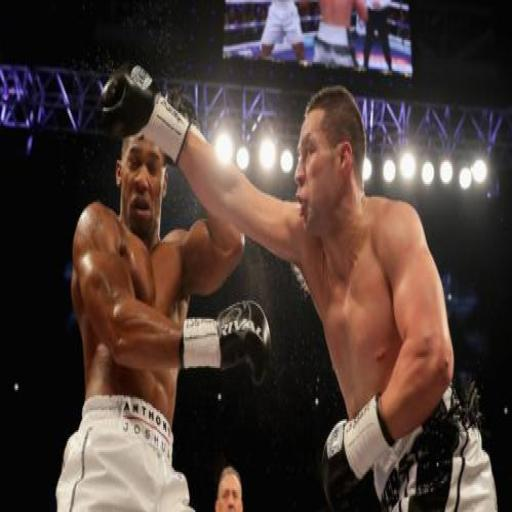boxing: (96, 60, 498, 508), (69, 54, 245, 512)
